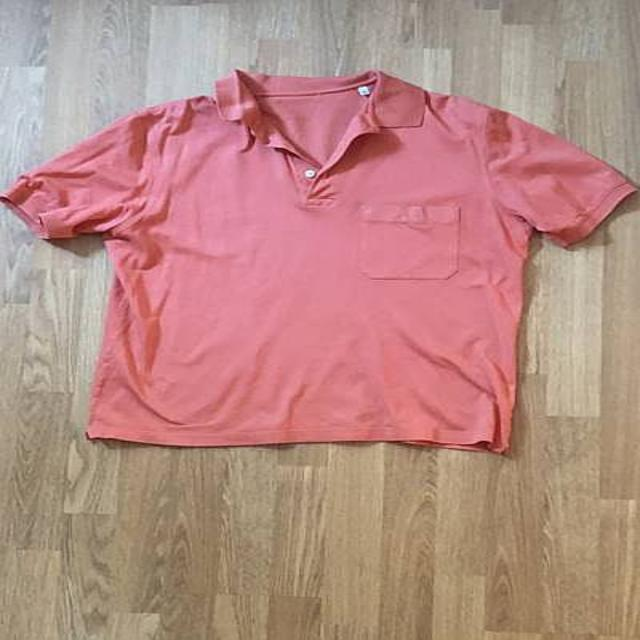T_SHIRT: (5, 63, 640, 461)
